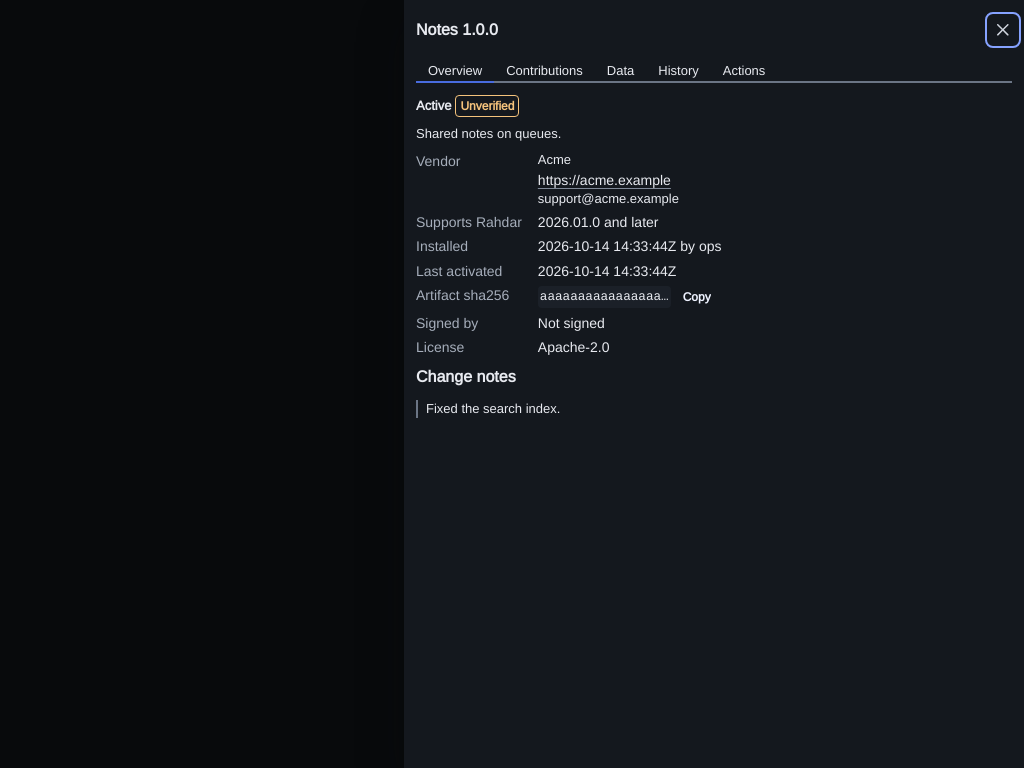
PluginDrawer: data › measures its tables, with counts and sizes in the right unit
Click the tab "Data" at x=621, y=72, box [595,60,646,83]
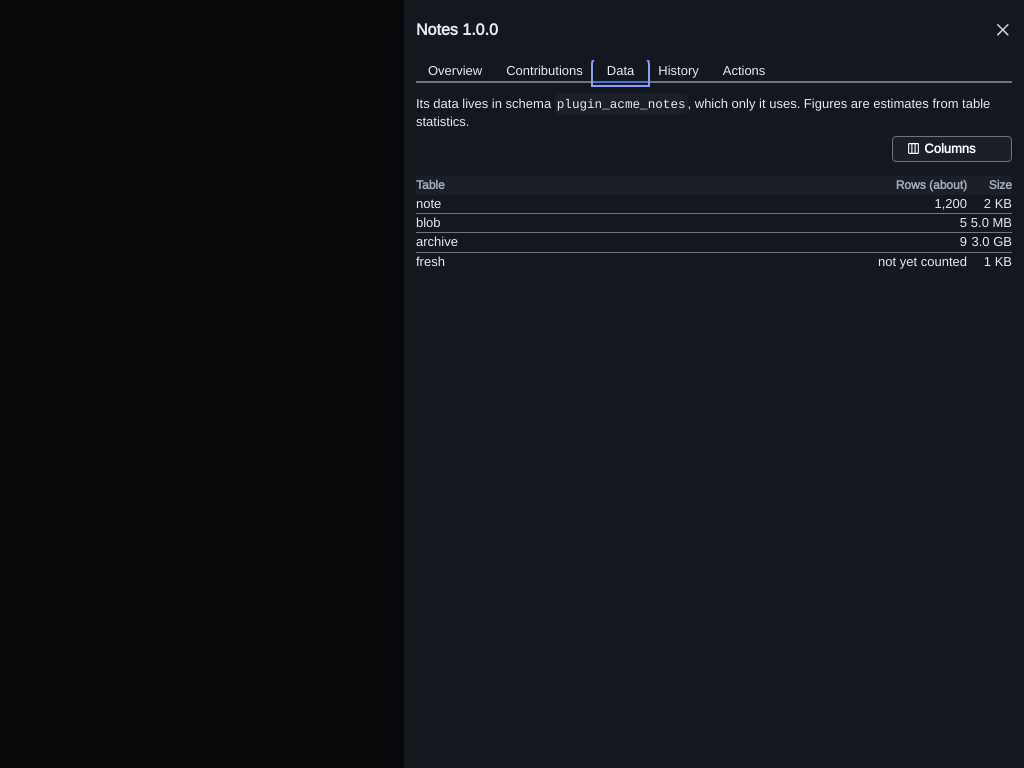
expect the text "1,200" is shown: met, box [934,195,967,212]
expect the text "2 KB" is shown: met, box [984,195,1012,212]
expect the text "5.0 MB" is shown: met, box [967,214,1012,232]
